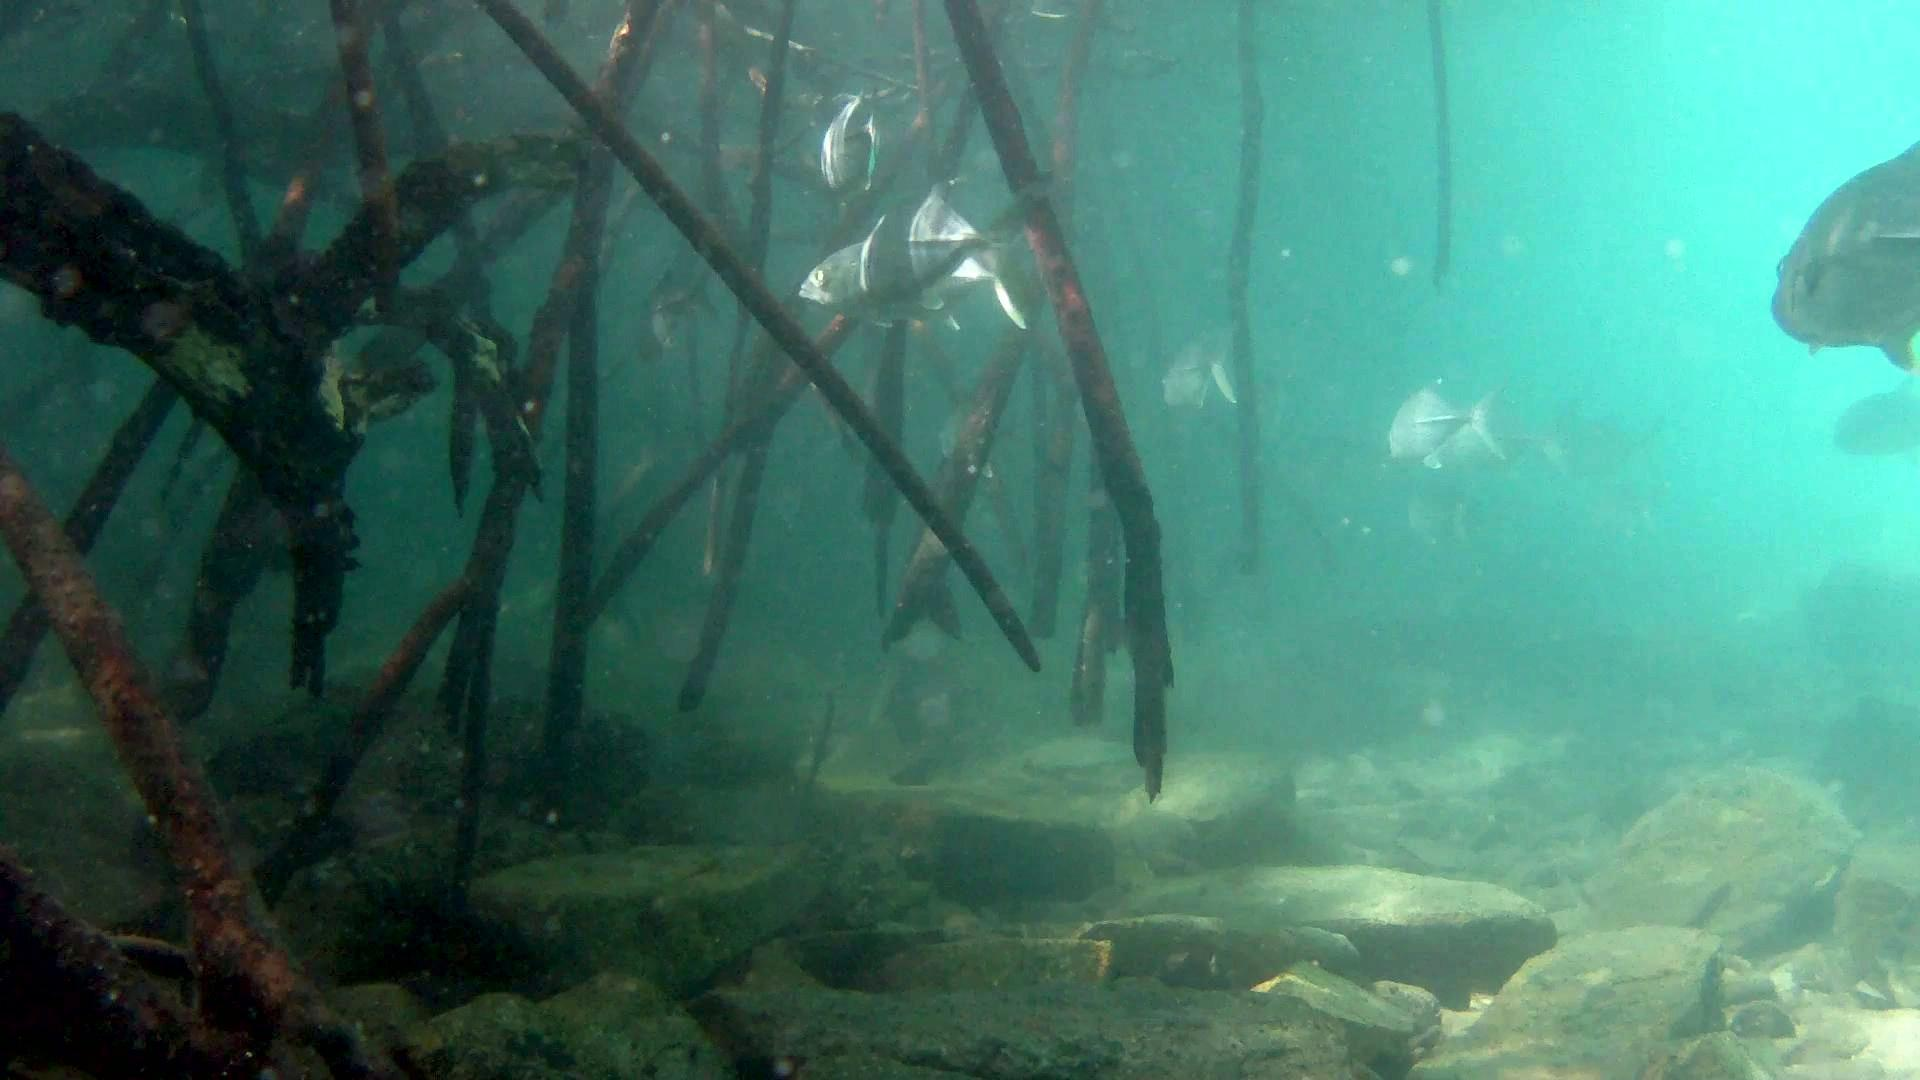caranx: (1745, 134, 1920, 376), (858, 172, 1083, 332)
